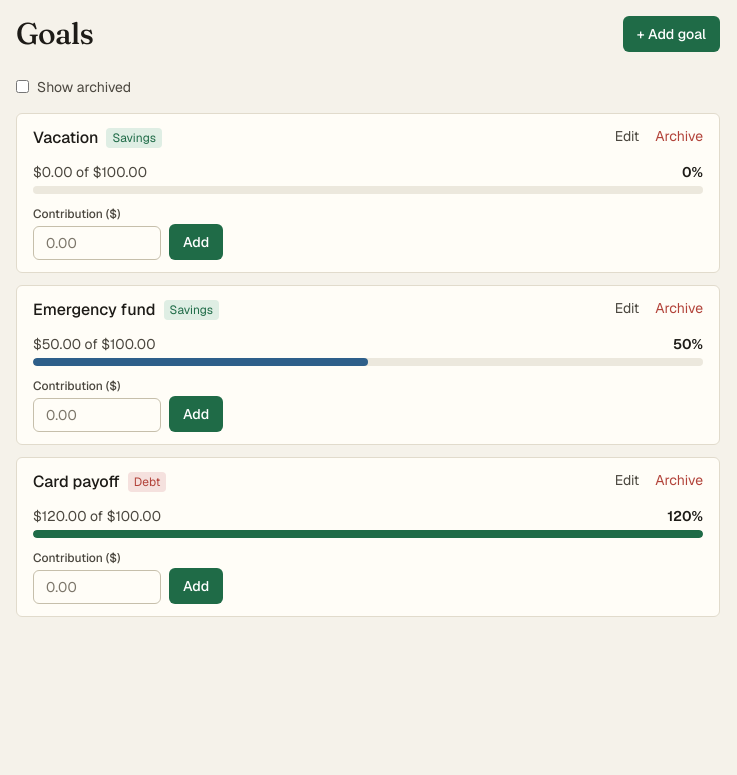
Test: GoalsPage › hints in the create form when categories failed to load
Expected: the element "Vacation" is shown, [16,112,720,272]
Click the button "+ Add goal": (671, 34) [623,16,720,52]
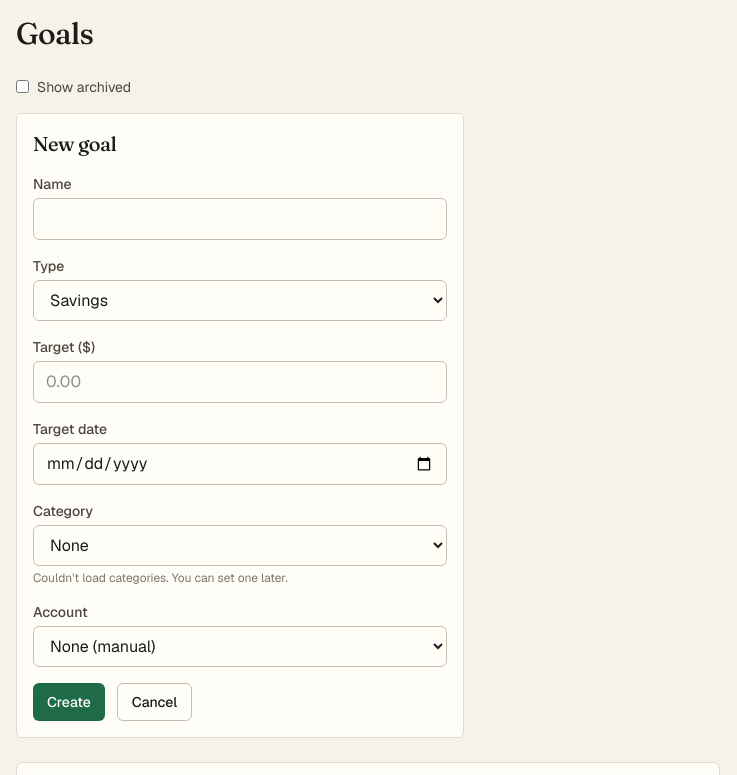
Now the text "Couldn't load categories. You can set one later." is shown, box [33,570,288,586]
